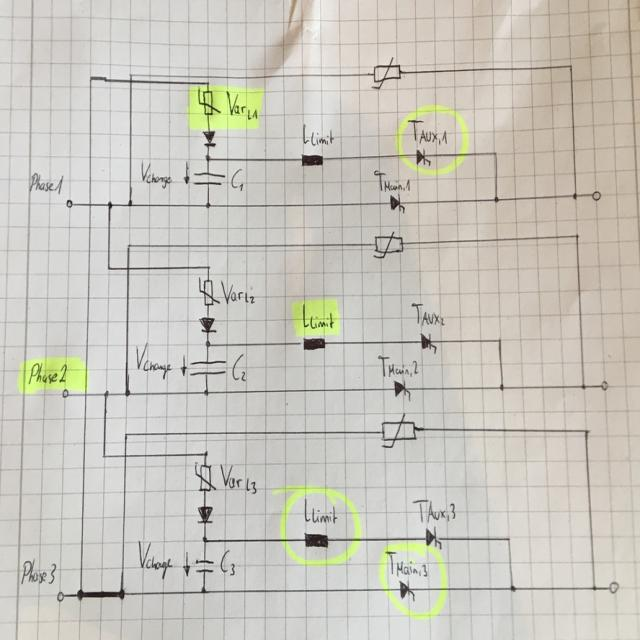capacitor: (187, 357, 228, 378), (191, 170, 226, 188), (192, 557, 215, 575)
crossover: (123, 262, 131, 273), (86, 200, 94, 208), (82, 389, 88, 398), (122, 452, 129, 458), (128, 78, 134, 83)
diode: (198, 316, 218, 333), (196, 503, 213, 523), (201, 129, 217, 146)
inductor: (302, 530, 328, 549), (298, 336, 326, 352), (300, 152, 324, 166)
junction: (74, 586, 85, 602), (116, 586, 127, 600), (125, 198, 134, 208), (498, 381, 505, 393), (200, 534, 208, 544), (199, 585, 207, 595), (102, 388, 110, 398), (491, 148, 499, 158), (106, 199, 113, 210), (203, 200, 212, 208), (492, 194, 500, 203), (580, 382, 588, 391), (582, 427, 590, 436), (508, 584, 517, 592), (123, 388, 131, 397), (202, 388, 210, 397), (201, 448, 208, 458), (204, 338, 211, 348), (572, 190, 578, 201), (124, 242, 132, 250), (504, 534, 512, 542), (87, 74, 95, 82), (591, 583, 598, 592), (204, 153, 211, 162), (106, 263, 112, 273), (496, 335, 502, 344), (574, 232, 580, 240), (123, 430, 129, 438), (568, 62, 574, 70), (100, 452, 107, 458), (128, 72, 134, 77), (204, 264, 210, 269), (204, 80, 210, 85)
terminal: (607, 578, 620, 594), (54, 589, 66, 602), (590, 188, 601, 201), (599, 379, 609, 391), (64, 198, 74, 209), (60, 387, 68, 399)
text: (134, 340, 172, 380), (136, 538, 172, 580), (218, 462, 258, 494), (384, 549, 428, 578), (410, 497, 456, 523), (406, 118, 448, 146), (19, 556, 56, 586), (376, 352, 419, 377), (27, 360, 68, 386), (224, 89, 258, 120), (303, 496, 337, 525), (410, 301, 445, 327), (302, 302, 334, 330), (373, 168, 410, 192), (220, 279, 255, 304), (140, 160, 171, 188), (28, 171, 64, 195), (301, 121, 334, 146), (230, 352, 247, 382), (219, 547, 236, 576), (229, 167, 246, 191)
thyristor: (424, 524, 442, 546), (398, 578, 416, 598), (392, 379, 411, 397), (418, 331, 436, 349), (415, 147, 431, 167), (389, 192, 405, 210)
